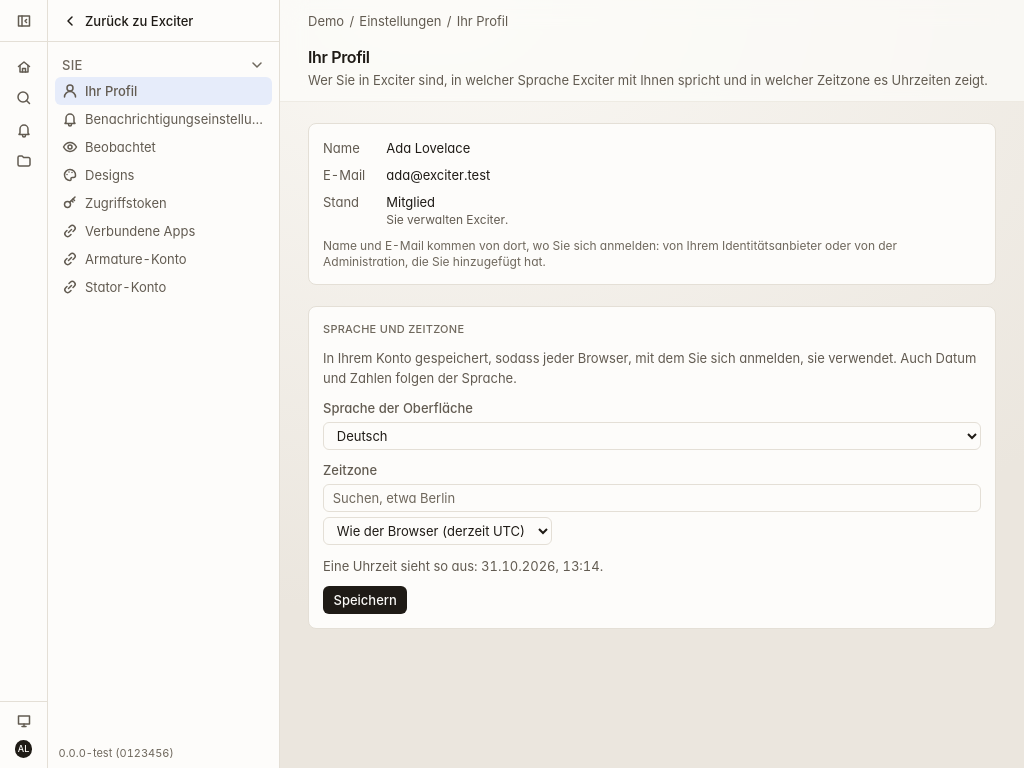
the interface language › goes back to the browser's language when the choice is cleared
The image size is (1024, 768).
Select "Wie der Browser (derzeit English)" in the dropdown labelled "Sprache der Oberfläche" at x=652, y=436, box [323, 422, 981, 450]
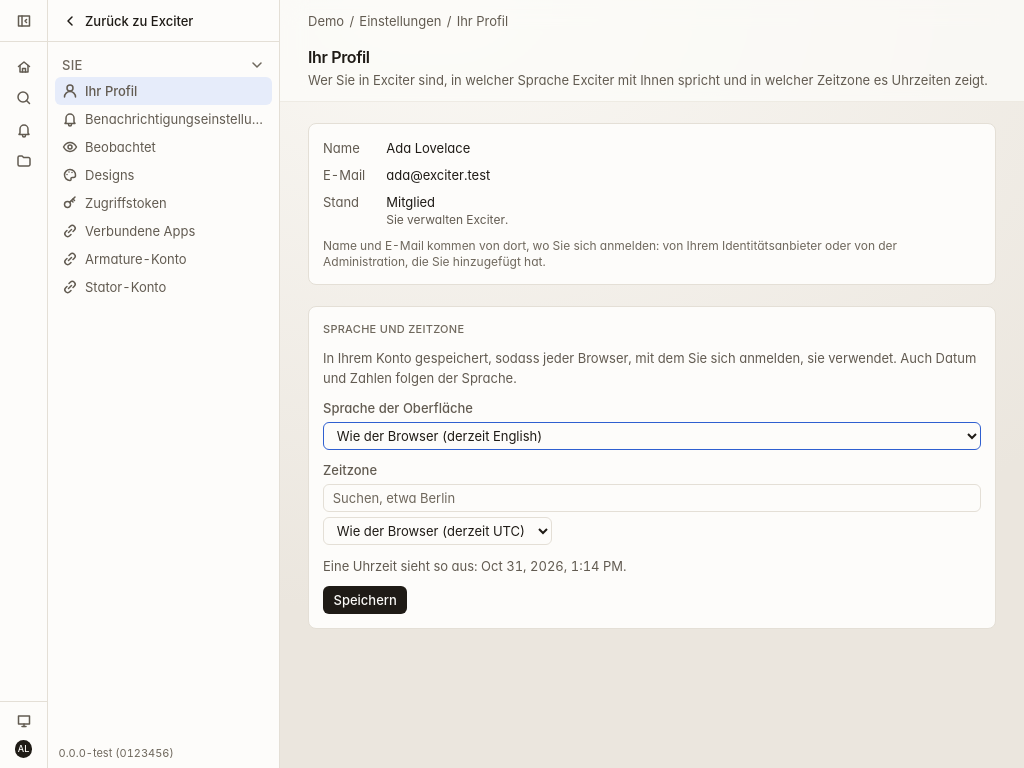
Click the button "Speichern" at x=365, y=600, box [323, 586, 407, 614]
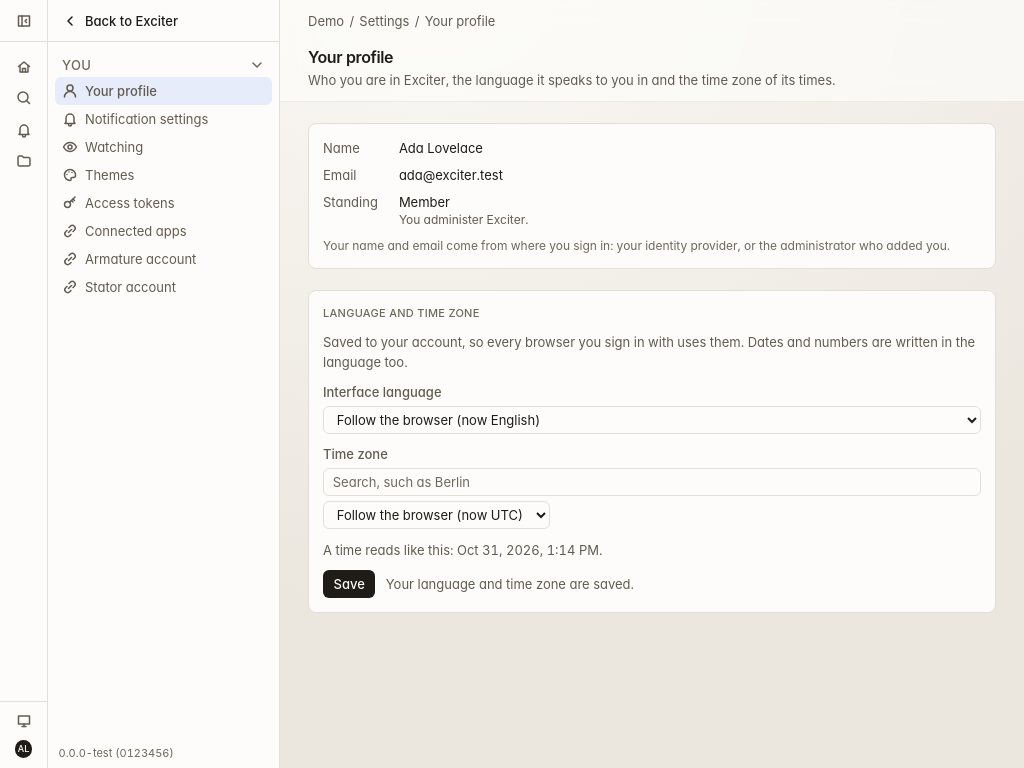
Expected: the heading "Your profile" is shown, [308, 46, 393, 66]
